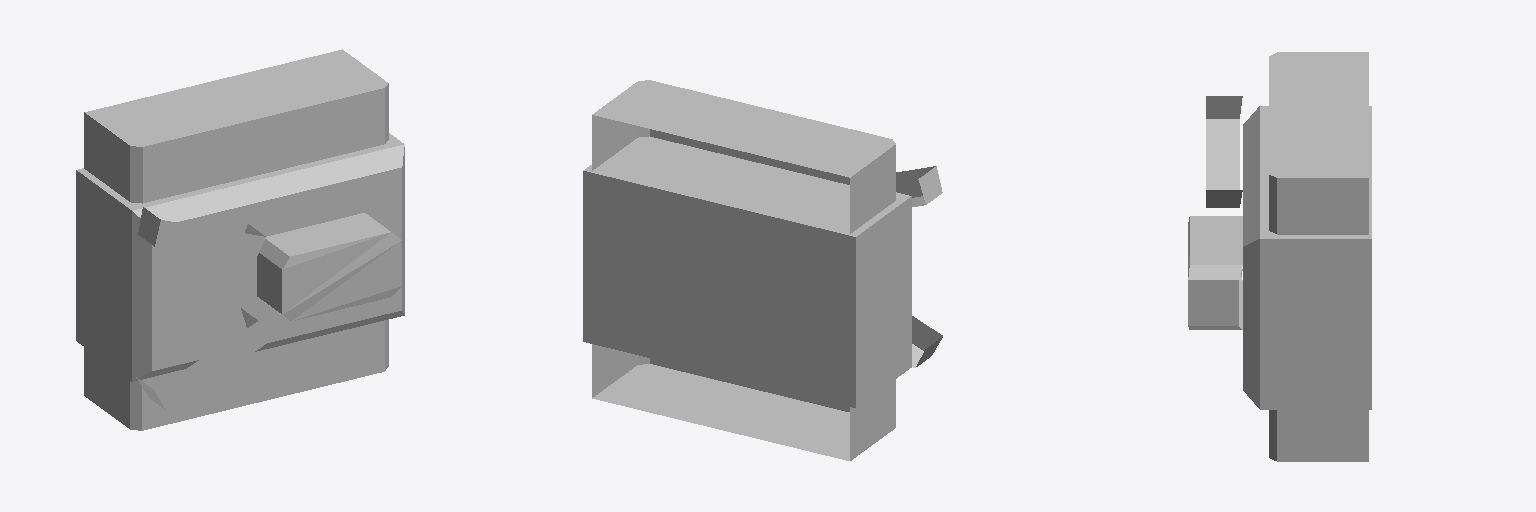
The model's file is drone2Simple.obj.
3 renders of one model, left to right at view 1: azimuth 30°, elevation 25°; view 2: azimuth 150°, elevation 25°; view 3: azimuth 270°, elevation 25°, orthographic.
Visible parts, largest first — view 1: Object.1; view 2: Object.1; view 3: Object.1.
Boxes of the visible parts, <box> form: Object.1: <box>76,49,404,430</box>; Object.1: <box>583,80,942,460</box>; Object.1: <box>1188,52,1371,461</box>.
Size of the model in its own units: 63.89 by 62.38 by 36.62.